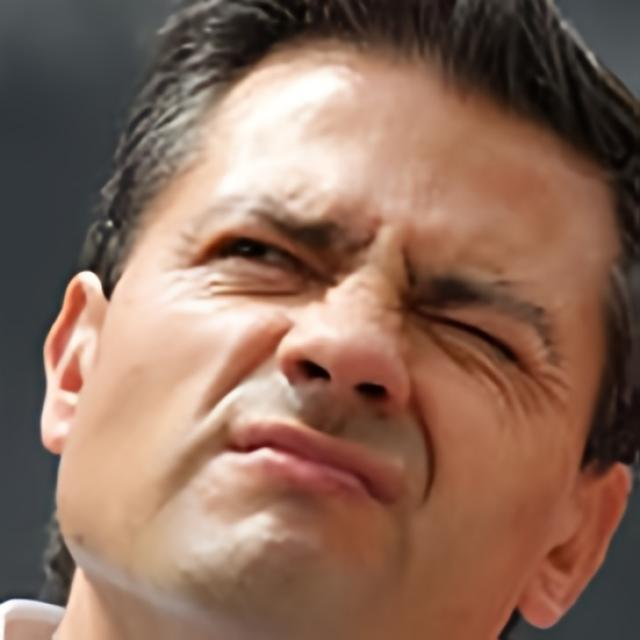disgust: (52, 0, 622, 640)
